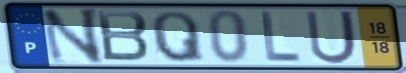0: (205, 8, 254, 66)
B: (94, 9, 152, 64)
L: (258, 9, 302, 65)
N: (38, 6, 106, 66)
Q: (149, 10, 208, 64)
U: (303, 8, 360, 67)
